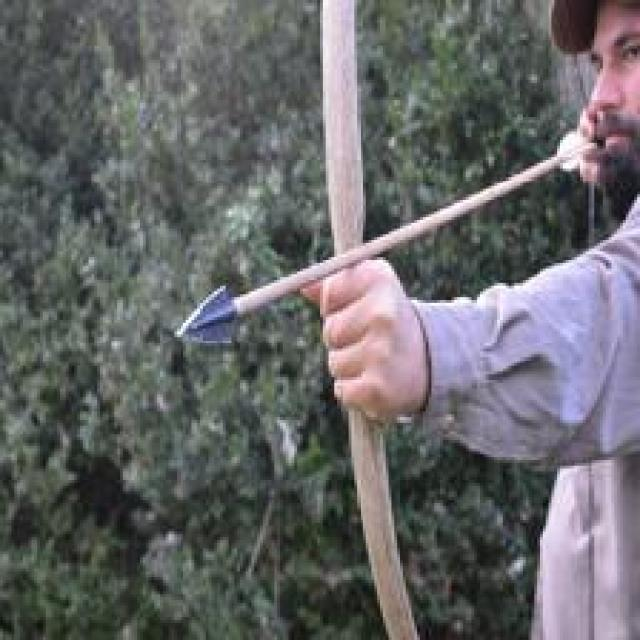X-Bow: (164, 0, 444, 640)
